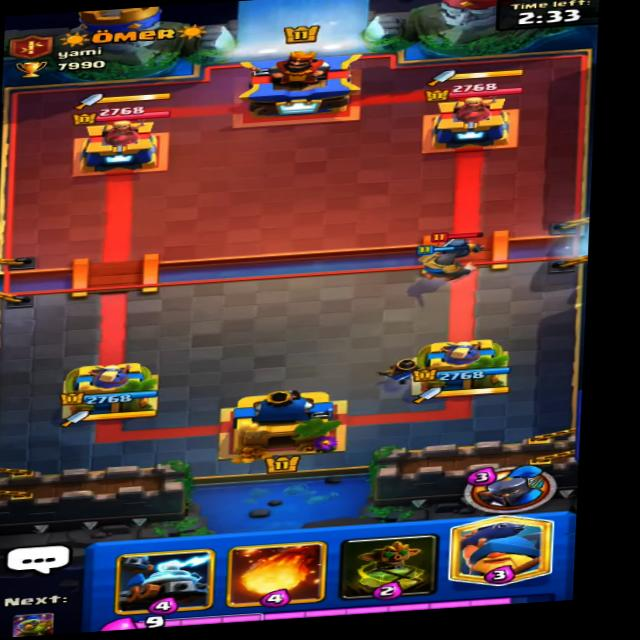mini-pekka: (424, 229, 490, 262)
